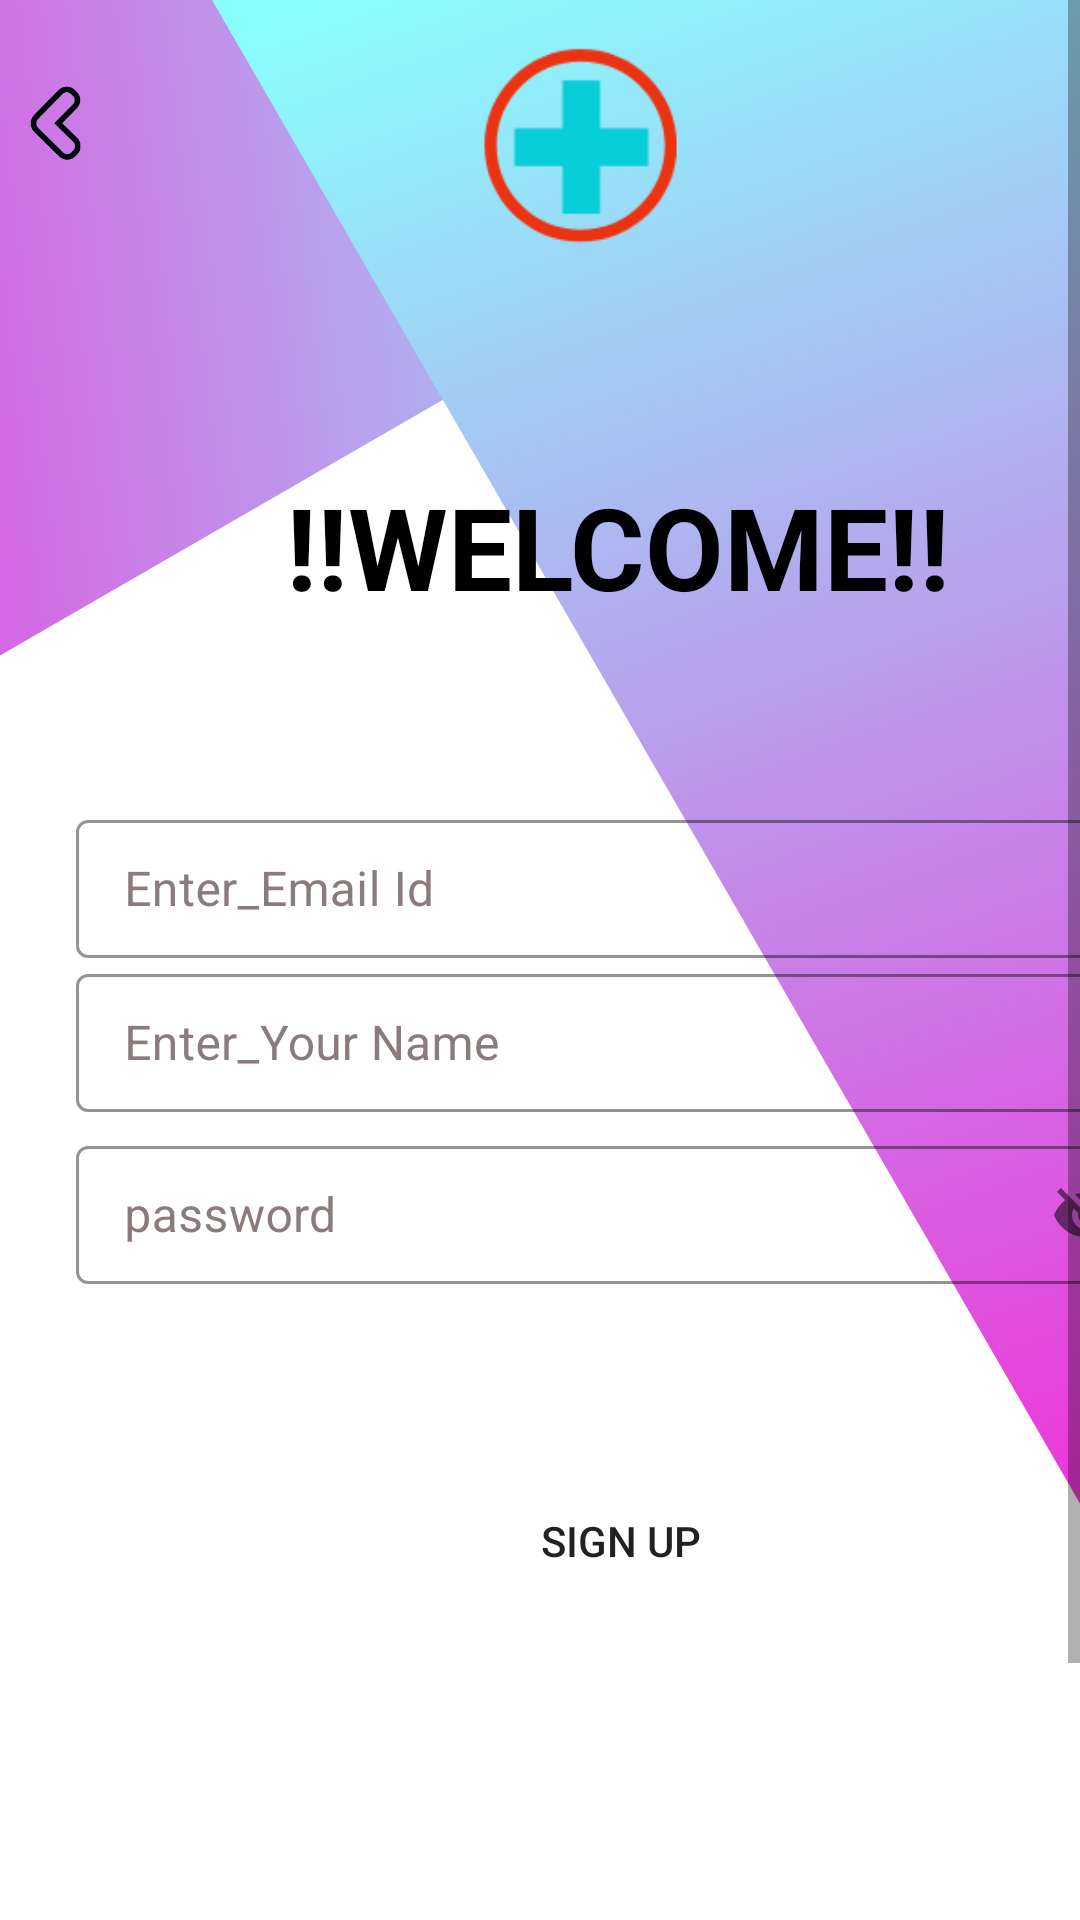

Where to tap for icons on this 1080*1920 app screen, as [x,y]:
back: [55,123]
